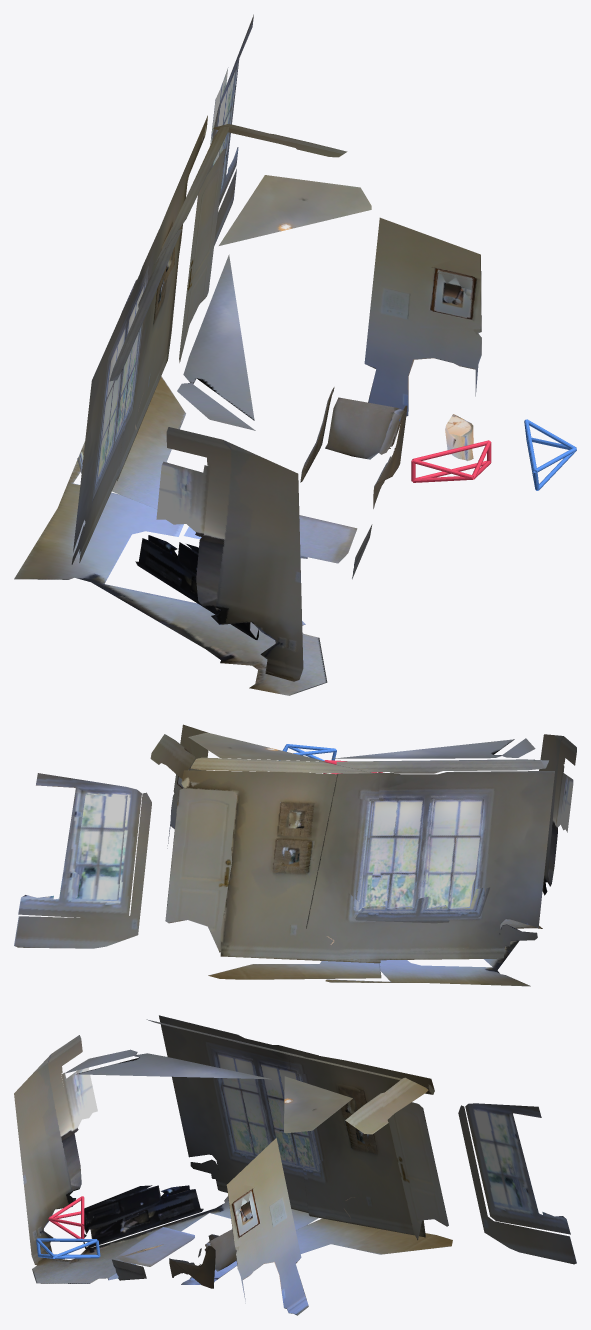
The picture shows the model from 3 angles, top to bottom: view 1: azimuth 30°, elevation 25°; view 2: azimuth 150°, elevation 25°; view 3: azimuth 270°, elevation 25°; orthographic projection. The views are drawn at different scales.
Parts seen in each view (by area): view 1: Node; view 2: Node; view 3: Node.
Part boxes in pixels (<box>): Node: <box>14,14,576,695</box>; Node: <box>14,724,576,986</box>; Node: <box>14,1015,576,1315</box>.
Bounding box in the file's own units: 4.92 × 3.65 × 6.82.
33 materials, 31 textured.
